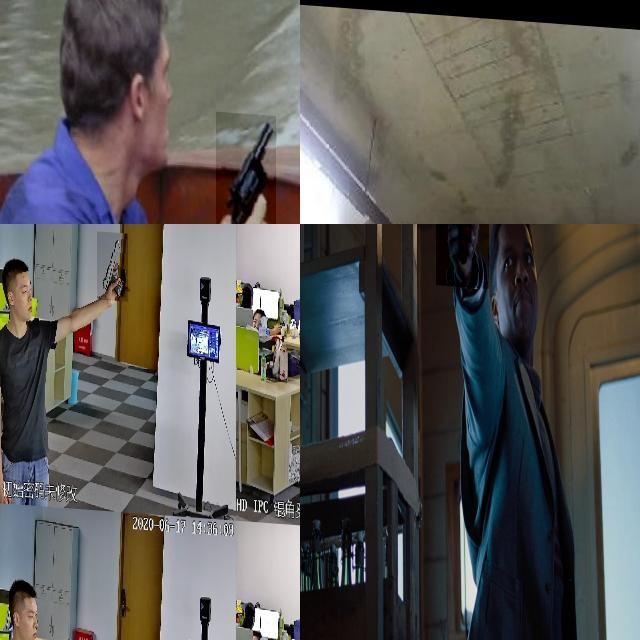gun-knife-thesis - v11 Yolov5 augmented: (216, 105, 276, 224), (436, 224, 488, 307), (97, 228, 128, 298)
